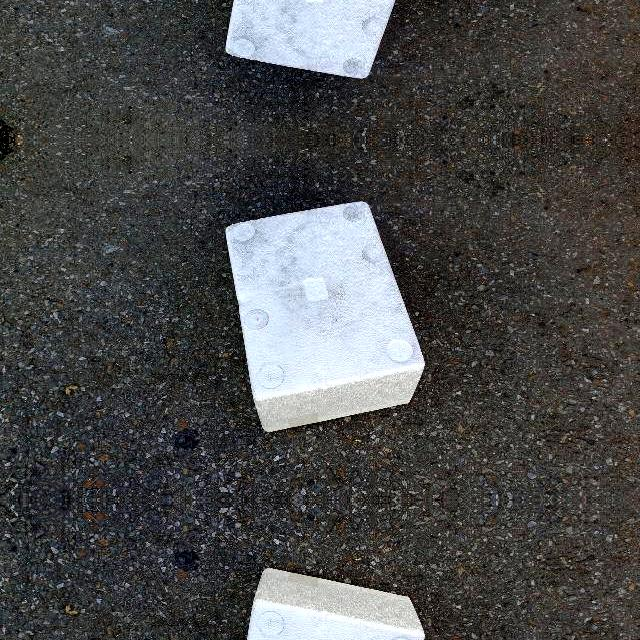Styrofoam: (227, 200, 426, 434), (226, 201, 425, 432), (226, 0, 425, 79), (226, 566, 425, 640), (226, 0, 396, 79), (247, 568, 425, 640)
